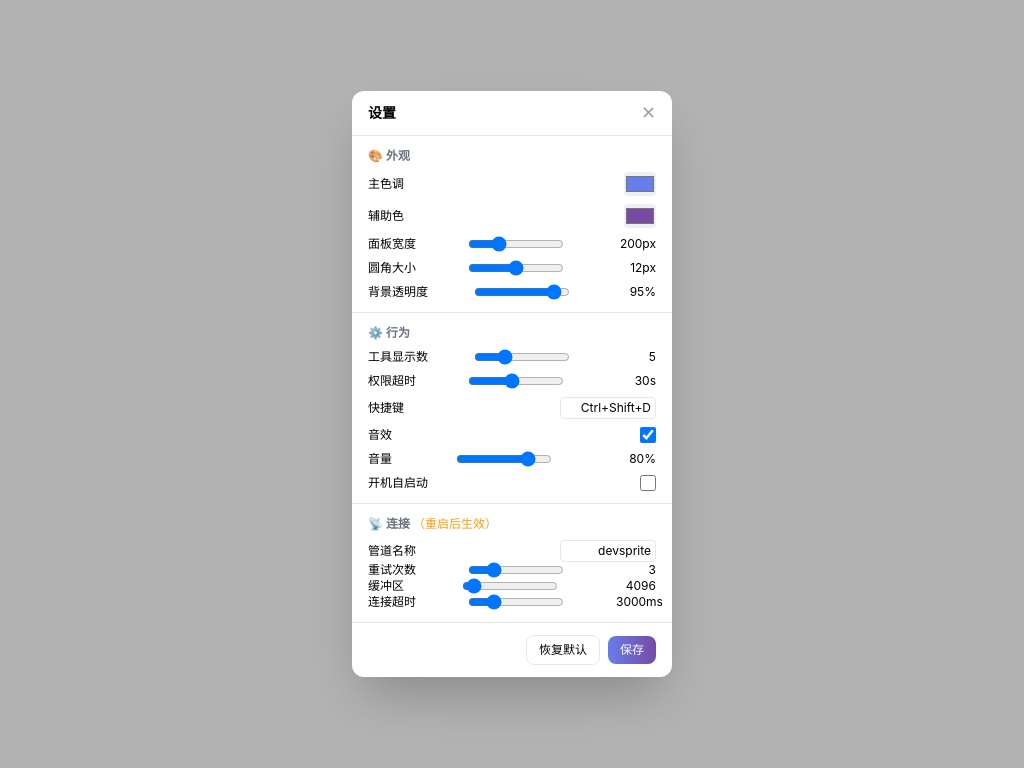
Test case: SettingsPanel › should reset to defaults when reset button clicked
Set the slider labelled "面板宽度 200px" to "250" at x=527, y=244, box [468,236,564,252]
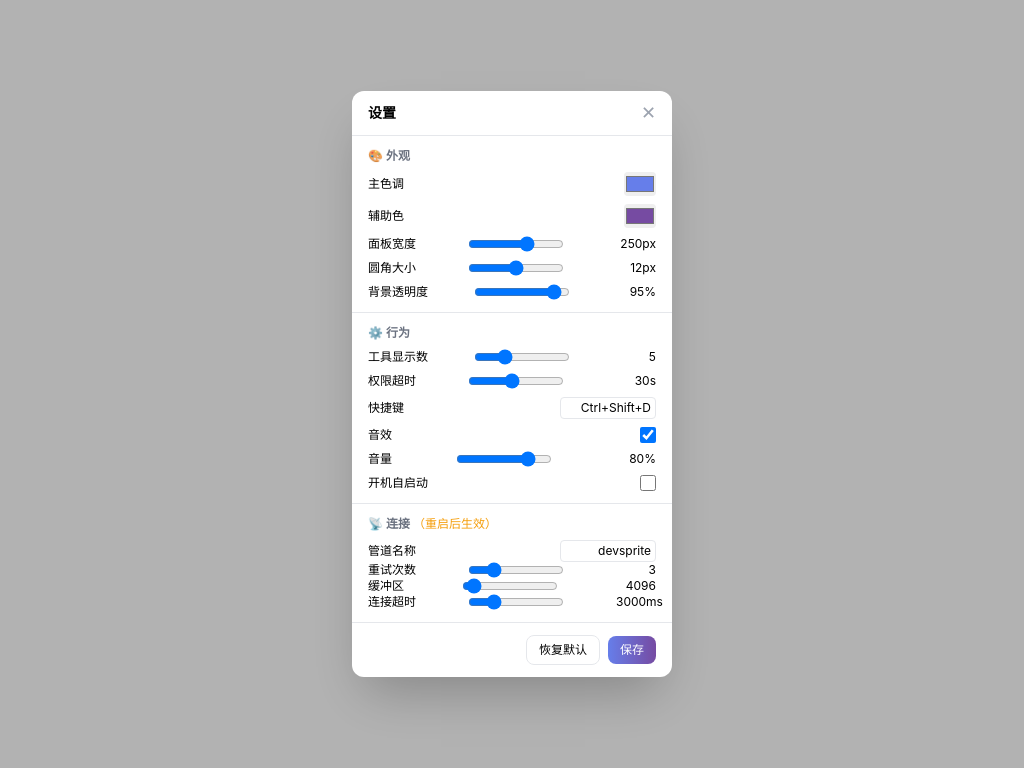
Click the button "恢复默认" at x=563, y=650, box [526,635,600,665]
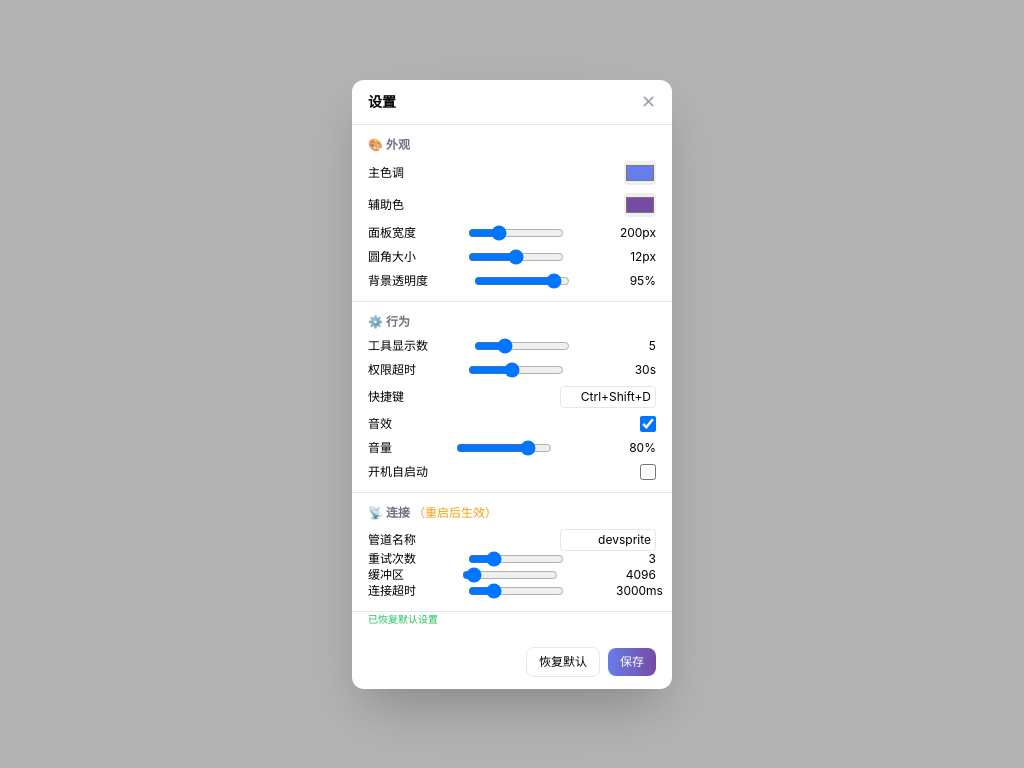
Expected: the slider labelled "面板宽度 200px" holds "200", [468,224,564,240]
